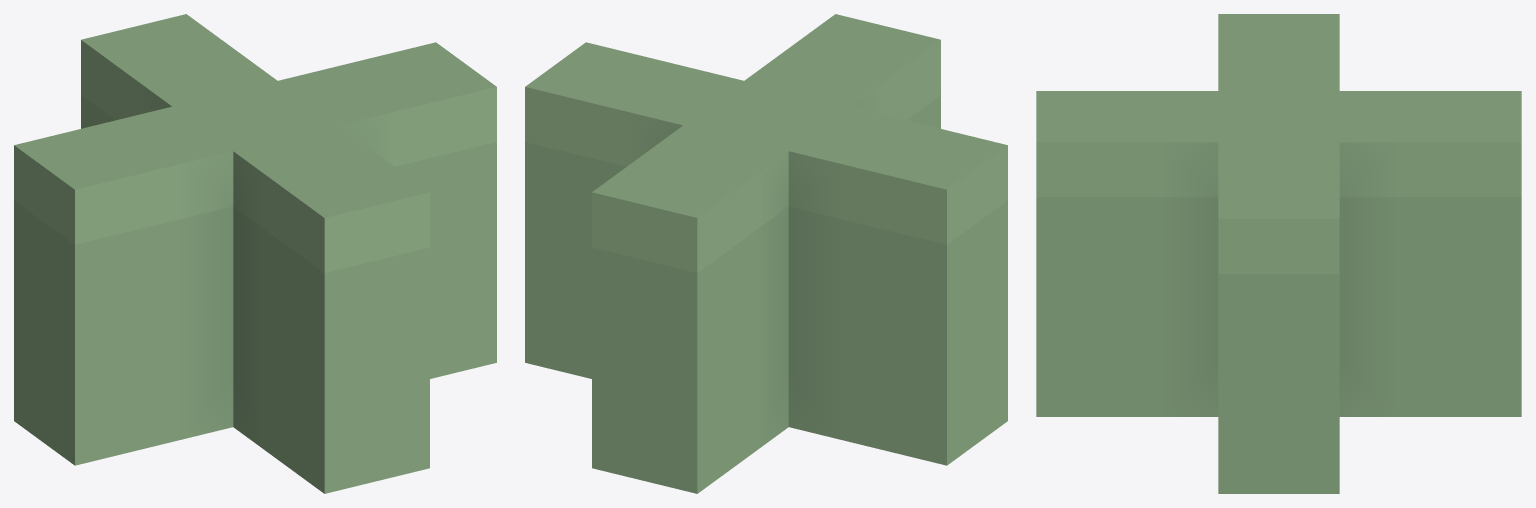
File: hedge.cross.glb
The picture shows the model from 3 angles, left to right: view 1: azimuth 30°, elevation 25°; view 2: azimuth 150°, elevation 25°; view 3: azimuth 270°, elevation 25°; orthographic projection.
Visible parts, largest first — view 1: hedge.cross; view 2: hedge.cross; view 3: hedge.cross.
Boxes of the visible parts, x1,y1,x2,y2 form: hedge.cross: (14, 14, 496, 493); hedge.cross: (525, 14, 1007, 493); hedge.cross: (1036, 14, 1521, 493).
Size of the model in its own units: 1 by 0.625 by 1.
